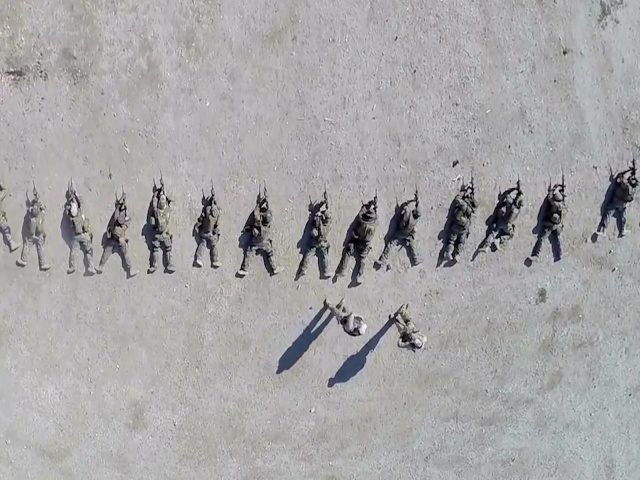person: (235, 190, 281, 282), (335, 194, 380, 287), (525, 180, 570, 265), (293, 191, 334, 284), (95, 191, 136, 280), (375, 194, 423, 270), (477, 182, 524, 257), (437, 181, 478, 265), (594, 168, 637, 241), (144, 181, 177, 276), (62, 185, 95, 276), (191, 185, 225, 272), (17, 183, 51, 270), (389, 303, 427, 353), (322, 296, 367, 337)
